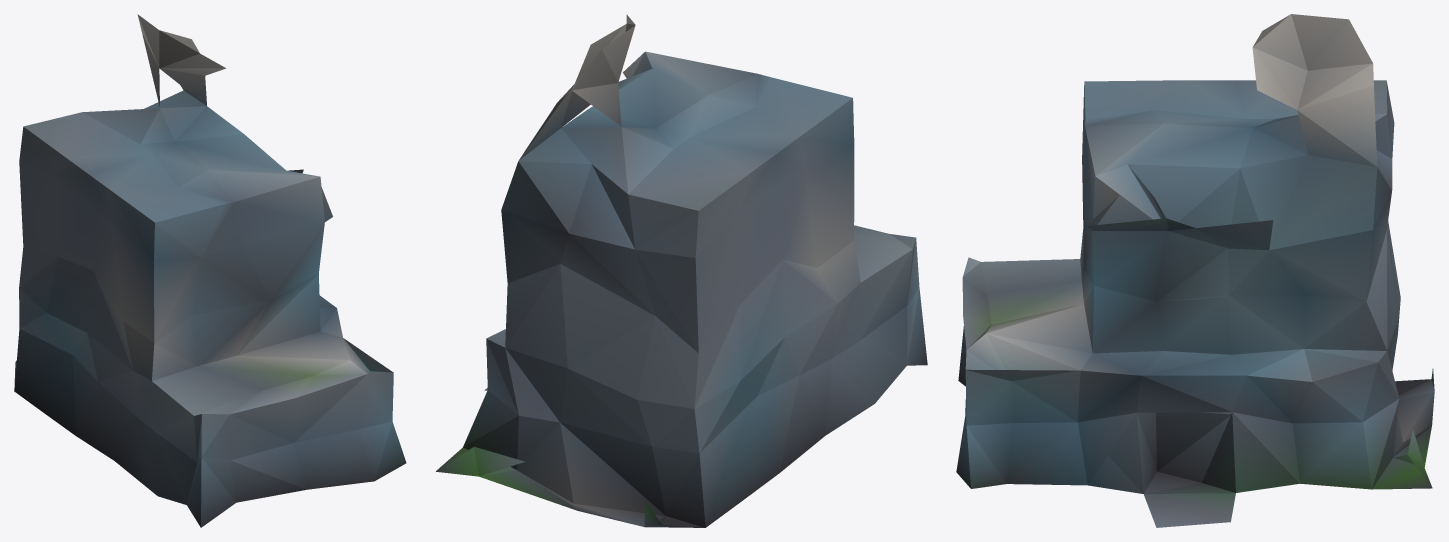
Rendered from lab.glb.
3 renders of one model, left to right at view 1: azimuth 30°, elevation 25°; view 2: azimuth 150°, elevation 25°; view 3: azimuth 270°, elevation 25°, orthographic. The views are drawn at different scales.
Parts seen in each view (by area): view 1: lab-far; view 2: lab-far; view 3: lab-far.
Part boxes in pixels (x1=…): lab-far: x1=14, y1=14, x2=406, y2=527; lab-far: x1=436, y1=14, x2=927, y2=527; lab-far: x1=956, y1=14, x2=1434, y2=527.
Bounding box in the file's own units: 0.7018 × 0.9473 × 0.9628.
